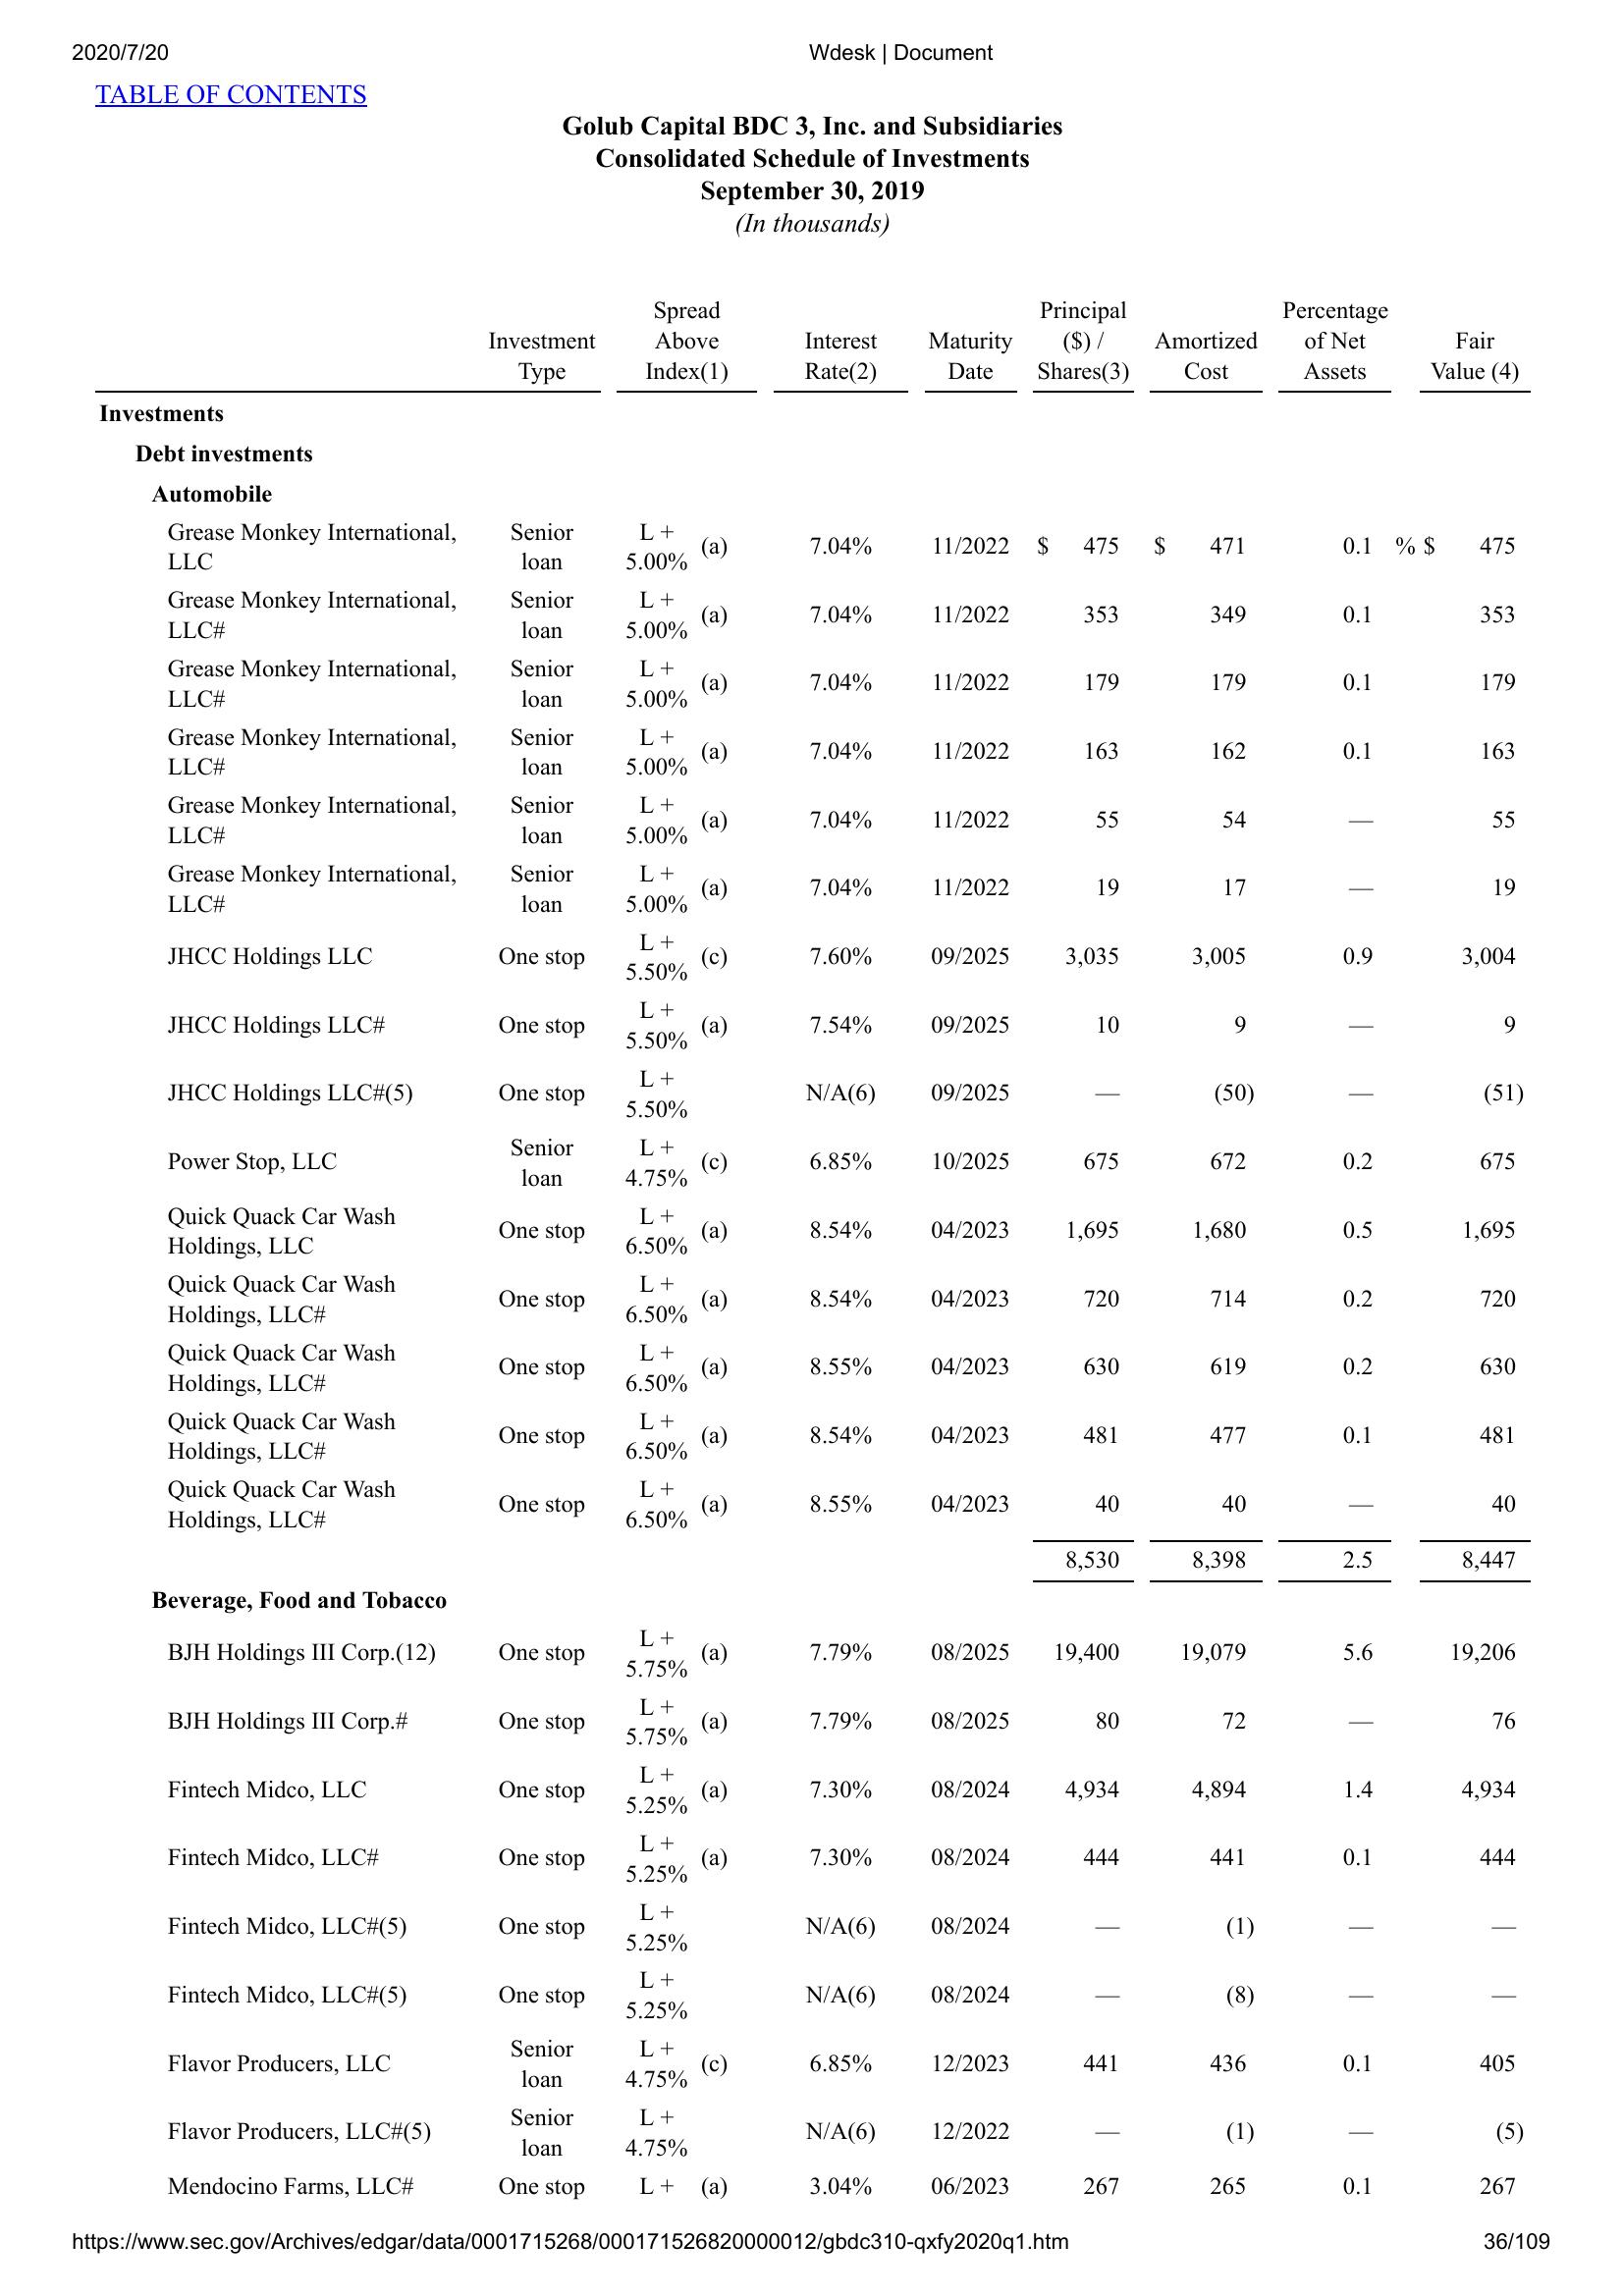table: (81, 295, 1544, 2215)
